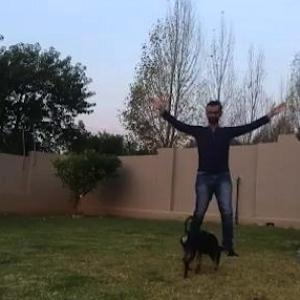takeoff: (150, 83, 299, 269)
